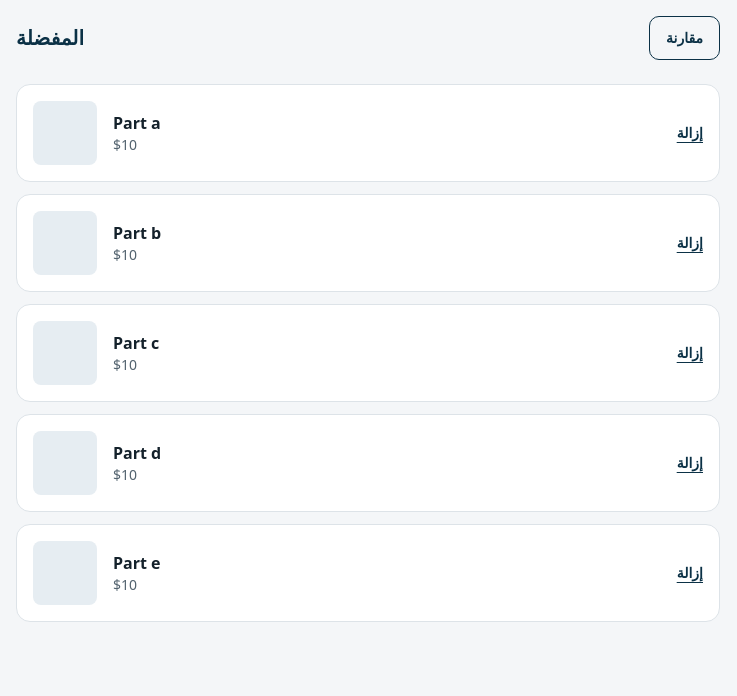
Test case: on a phone › the Arabic hint for a phone
Expected: the text "Part a" is shown, [113, 112, 161, 134]
Click the button "مقارنة". click: coordinates (684, 38)
box: [649, 16, 720, 60]
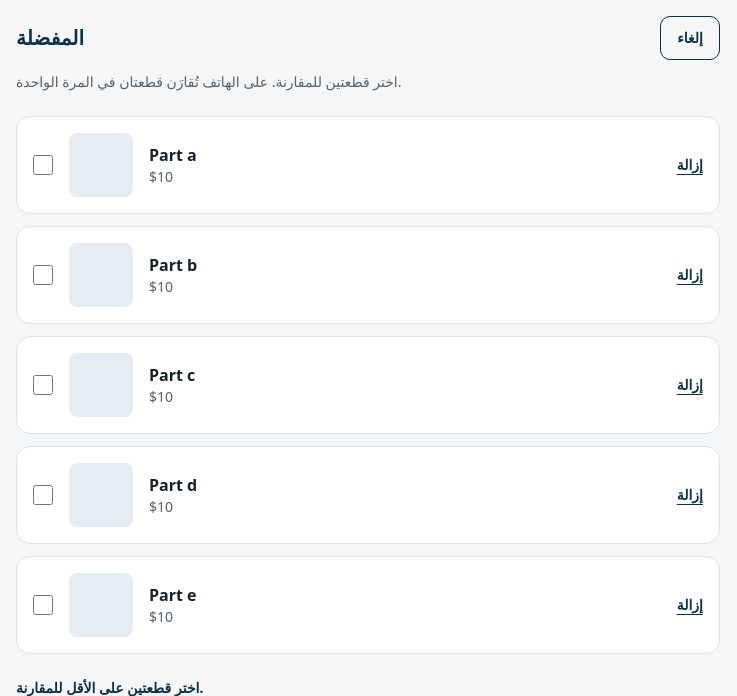
Now the text "اختر قطعتين للمقارنة. على الهاتف تُقارَن قطعتان في المرة الواحدة." is shown, box [16, 72, 402, 91]
